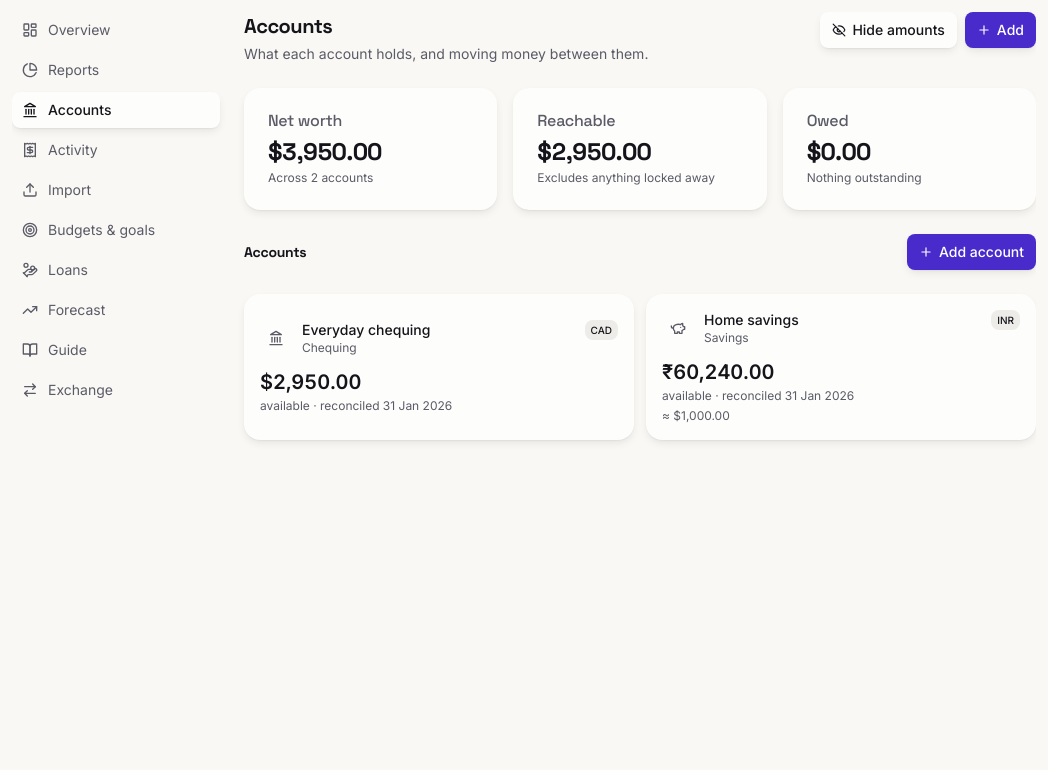
Test: the finance workspace › renders Activity with no placeholder
What coordinates should you click on to do the following:
click the button "Activity"
I would click on:
 (116, 150)
Its box is [12,132,220,168].
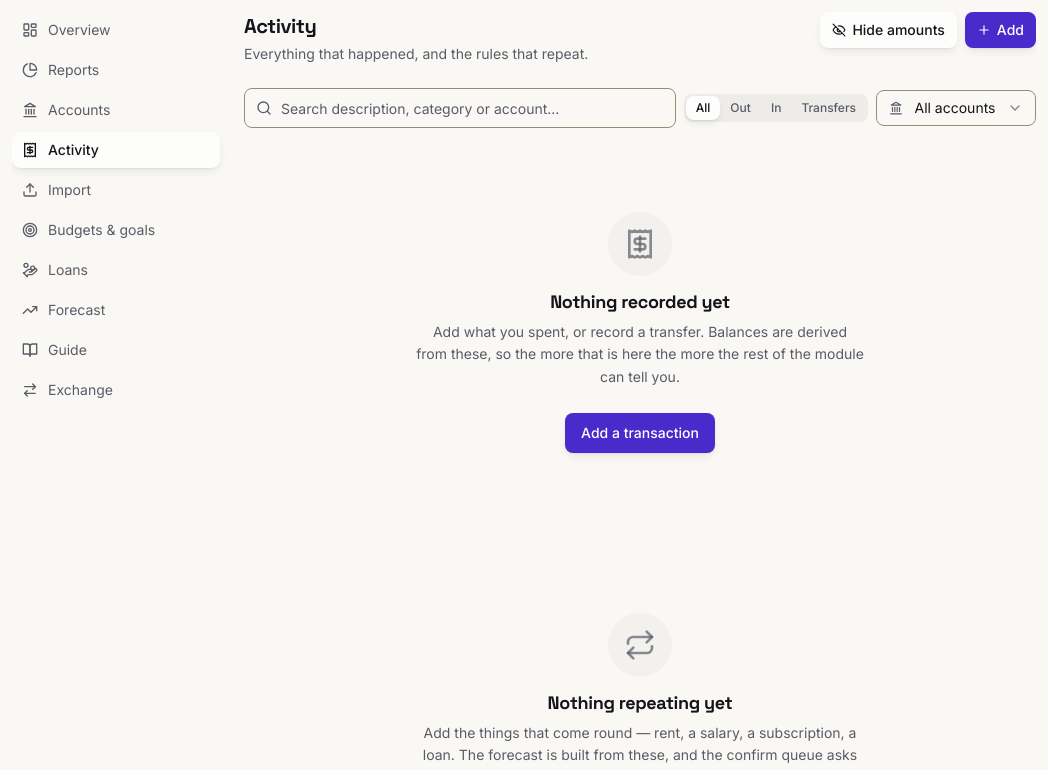
Expected: the heading "Activity" is shown, [244,13,316,39]
